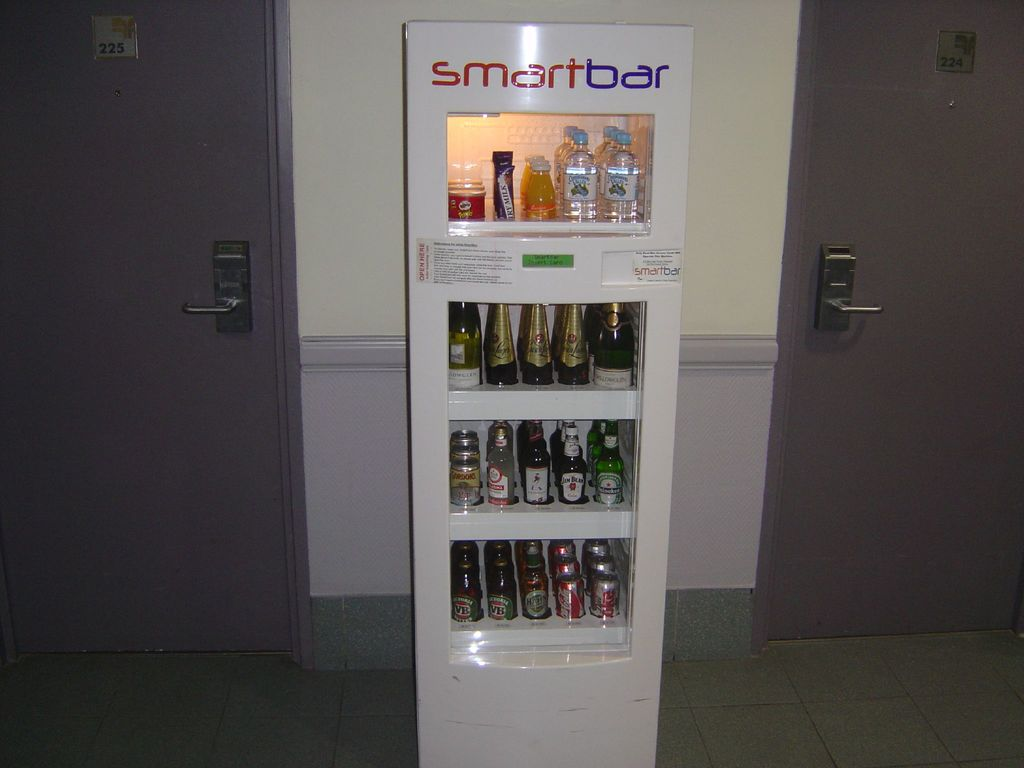door: (0, 19, 292, 644), (813, 23, 1024, 623)
handle: (830, 294, 883, 321), (182, 298, 238, 321)
refrigerator door: (438, 295, 642, 672), (438, 89, 664, 244)
